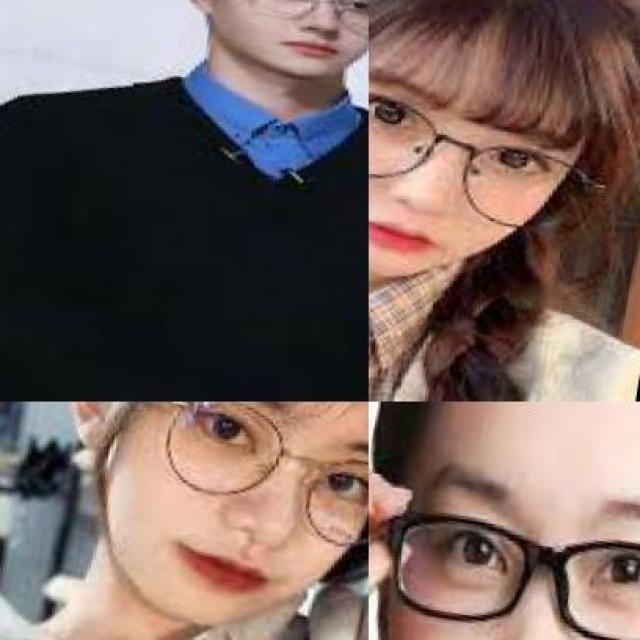Glasses: (368, 77, 608, 246), (372, 499, 640, 640), (135, 402, 367, 563), (208, 0, 367, 31)
